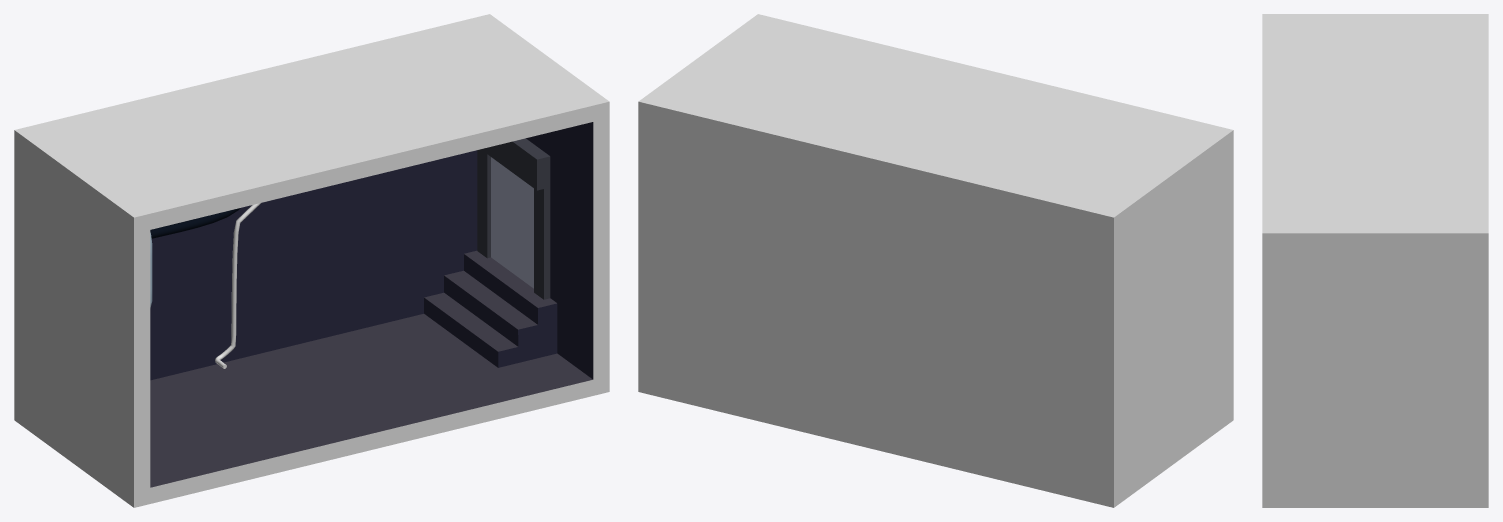
Rendered from Room 1.fbx.
The picture shows the model from 3 angles, left to right: view 1: azimuth 30°, elevation 25°; view 2: azimuth 150°, elevation 25°; view 3: azimuth 270°, elevation 25°; orthographic projection. The views are drawn at different scales.
Visible parts, largest first — view 1: Room, Door, Power Cable, Cable 2; view 2: Room; view 3: Room.
Part boxes in pixels (x1,y1,x2,y2): Room: (14, 14, 609, 507); Door: (477, 138, 550, 299); Power Cable: (215, 203, 260, 368); Cable 2: (150, 208, 240, 238); Room: (638, 14, 1233, 507); Room: (1262, 14, 1488, 507).
Bounding box in the file's own units: 1833 × 1069 × 799.
